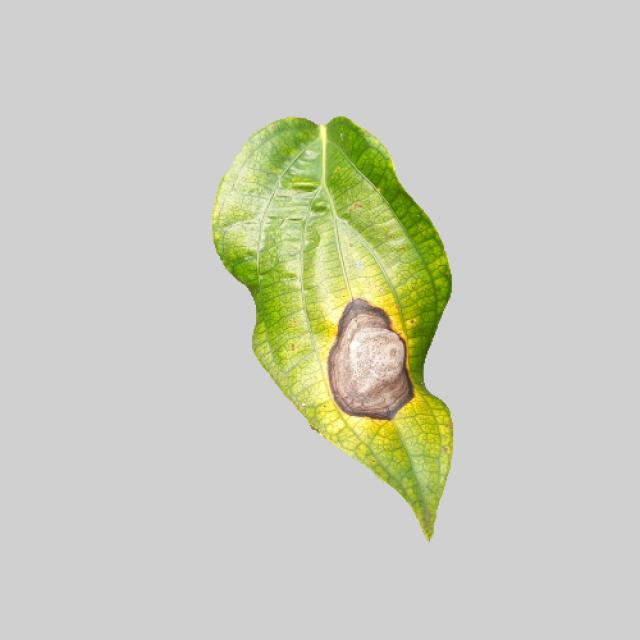leaf-blight: (194, 116, 458, 542)
